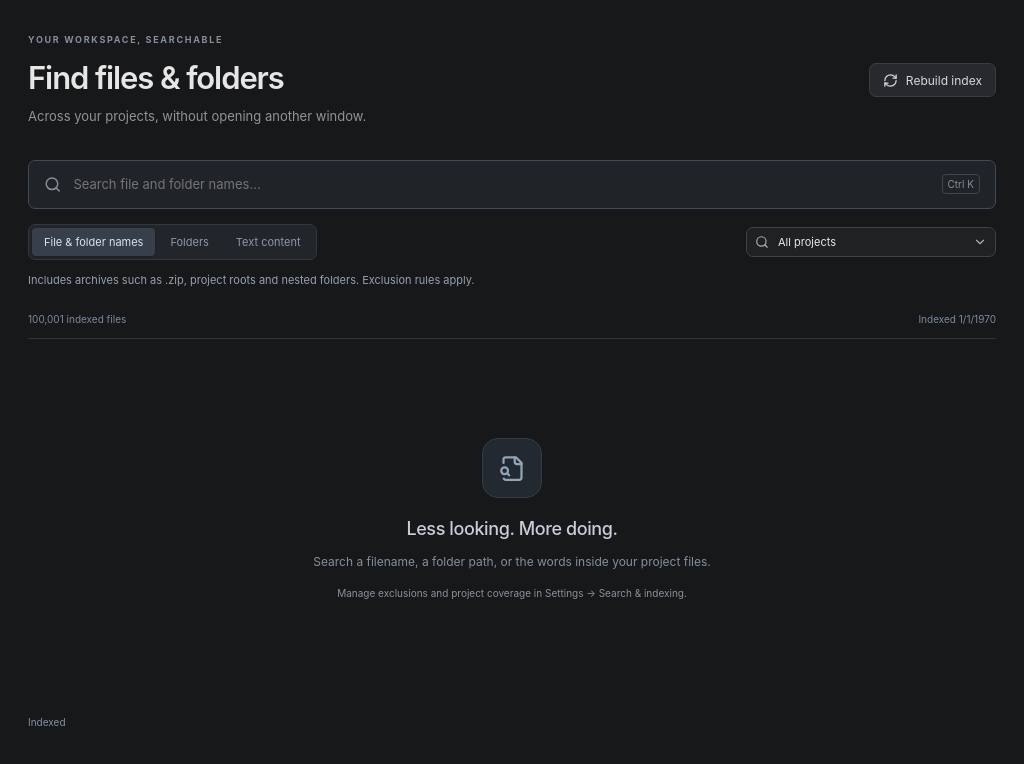
Test case: search result correctness › clears previous results when a new search fails
Step 1. Type "pkg" into the field named "Search files" → (502, 184), box [73,167,930,201]
Wait 230 ms
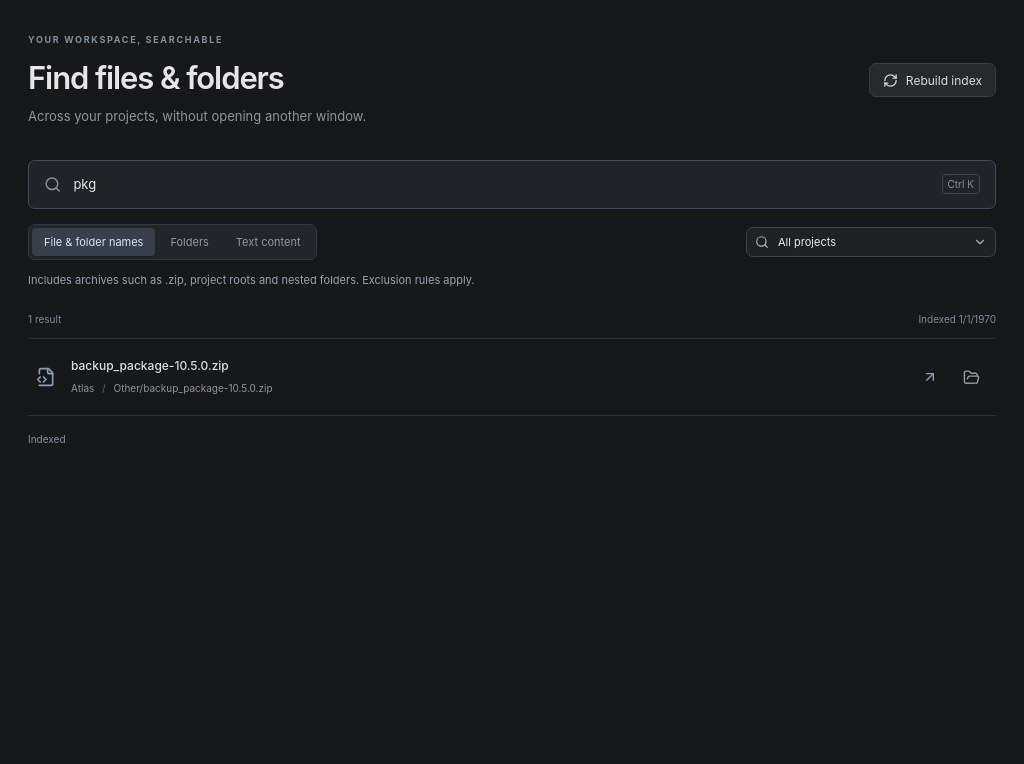
Now the text "backup_package-10.5.0.zip" is shown, box [71,358,229,373]
Step 2. Click the button "Folders" → (190, 242), box [158,228,221,256]
Wait 230 ms
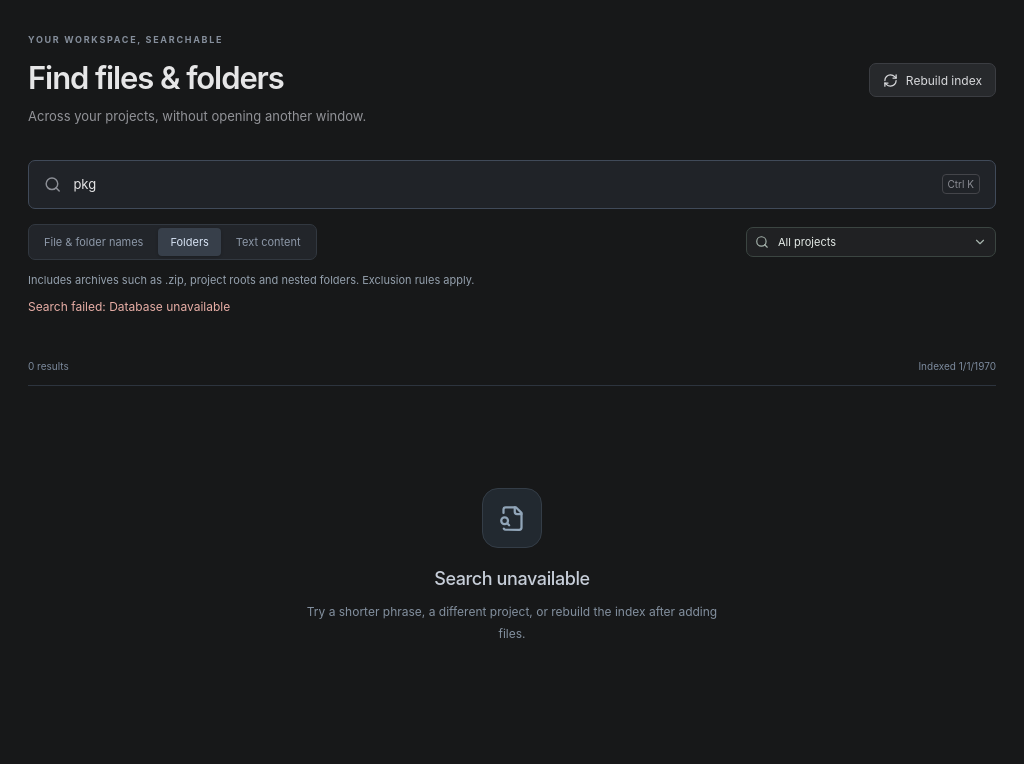
Now the button "backup_package-10.5.0.zip" is gone
Now the message shows "Database unavailable", box [109,299,230,314]
